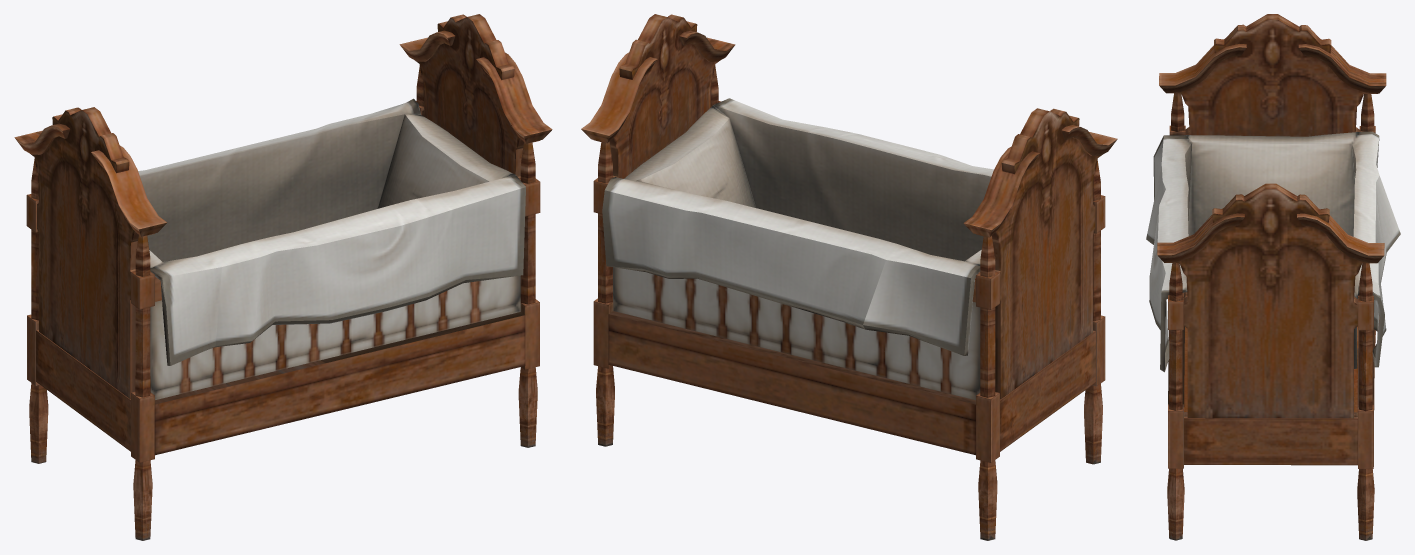
Rendered from cot-baby.glb.
3 renders of one model, left to right at view 1: azimuth 30°, elevation 25°; view 2: azimuth 150°, elevation 25°; view 3: azimuth 270°, elevation 25°, orthographic. The views are drawn at different scales.
Visible parts, largest first — view 1: cot-baby; view 2: cot-baby; view 3: cot-baby.
Part boxes in pixels (x1,y1,x2,y2): cot-baby: (14, 14, 552, 540); cot-baby: (581, 14, 1117, 540); cot-baby: (1146, 14, 1400, 540).
Bounding box in the file's own units: 1.2 × 1.08 × 0.7075.
1 material, 1 textured.
